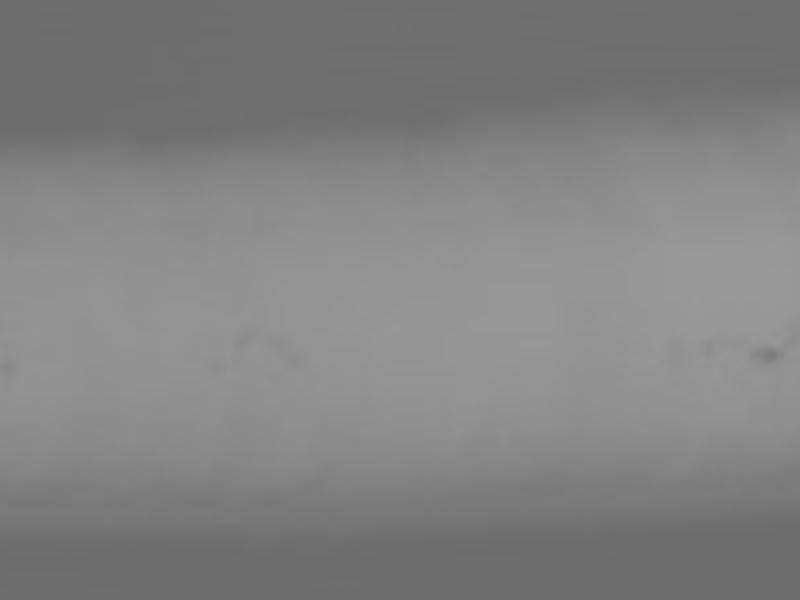defect: (231, 322, 257, 352), (750, 343, 781, 364), (265, 328, 292, 346), (281, 353, 304, 373), (698, 335, 717, 358), (1, 355, 19, 377)
